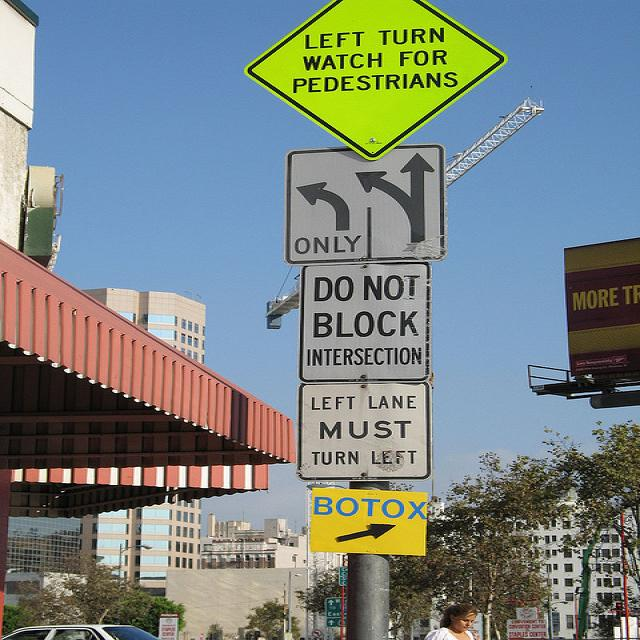Vehicle: (3, 624, 161, 640)
